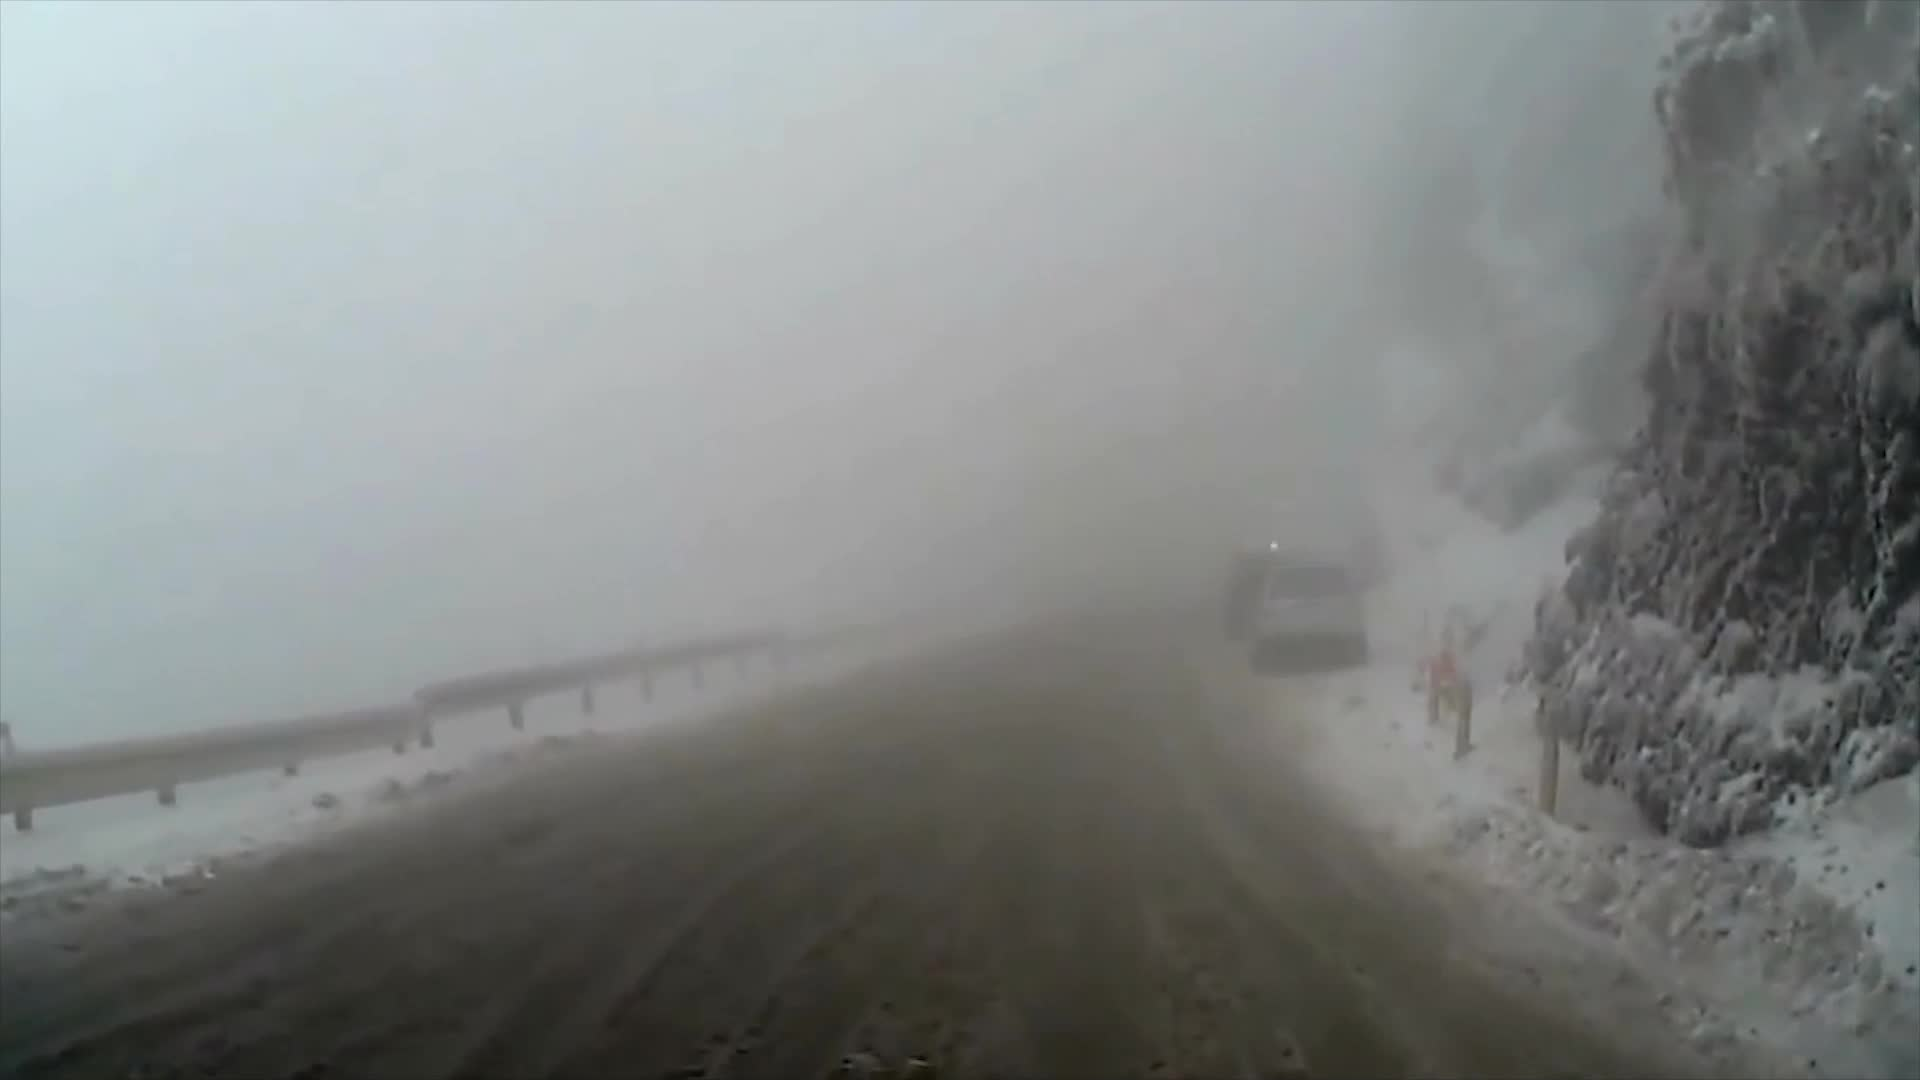vehicle: (1250, 554, 1367, 670)
